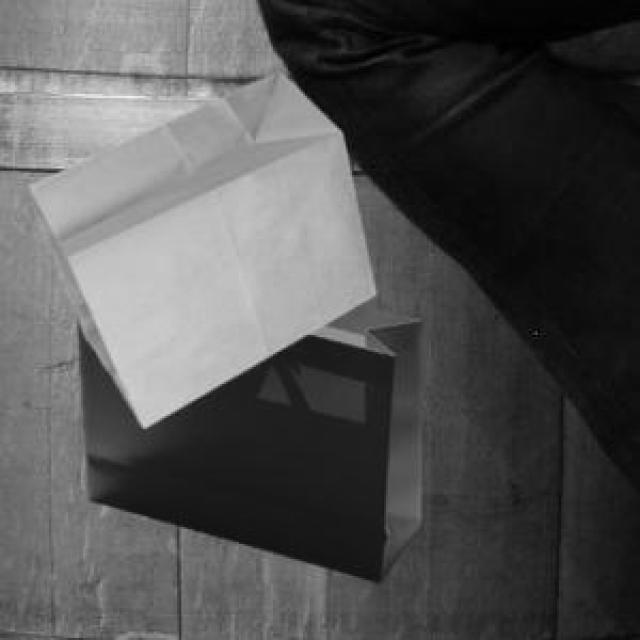paper: (26, 68, 371, 422), (75, 303, 418, 578)
